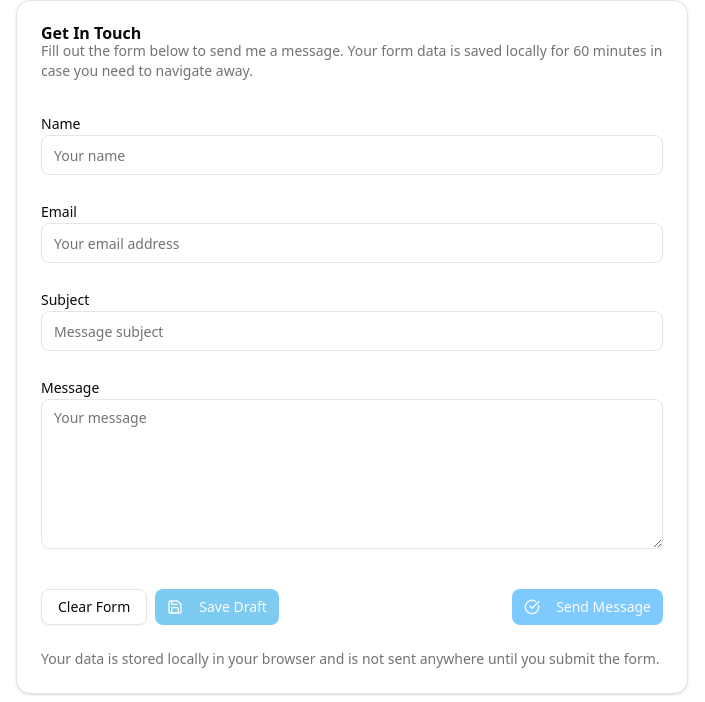
it: PersistentContactForm › shows validation errors for invalid inputs
The width and height of the screenshot is (705, 702).
Submit the form without filling in any fields
Click the button "Send Message".
click(588, 607)  # box [512,589,663,625]
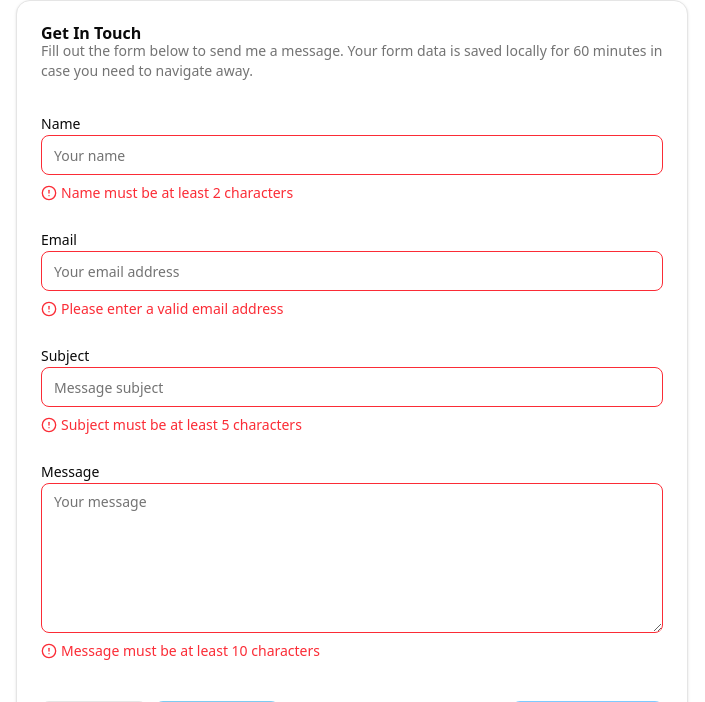
Now the text "Name must be at least 2 characters" is shown, box [41,183,293,202]
Now the text "Please enter a valid email address" is shown, box [41,299,284,318]
Now the text "Subject must be at least 5 characters" is shown, box [41,415,302,434]
